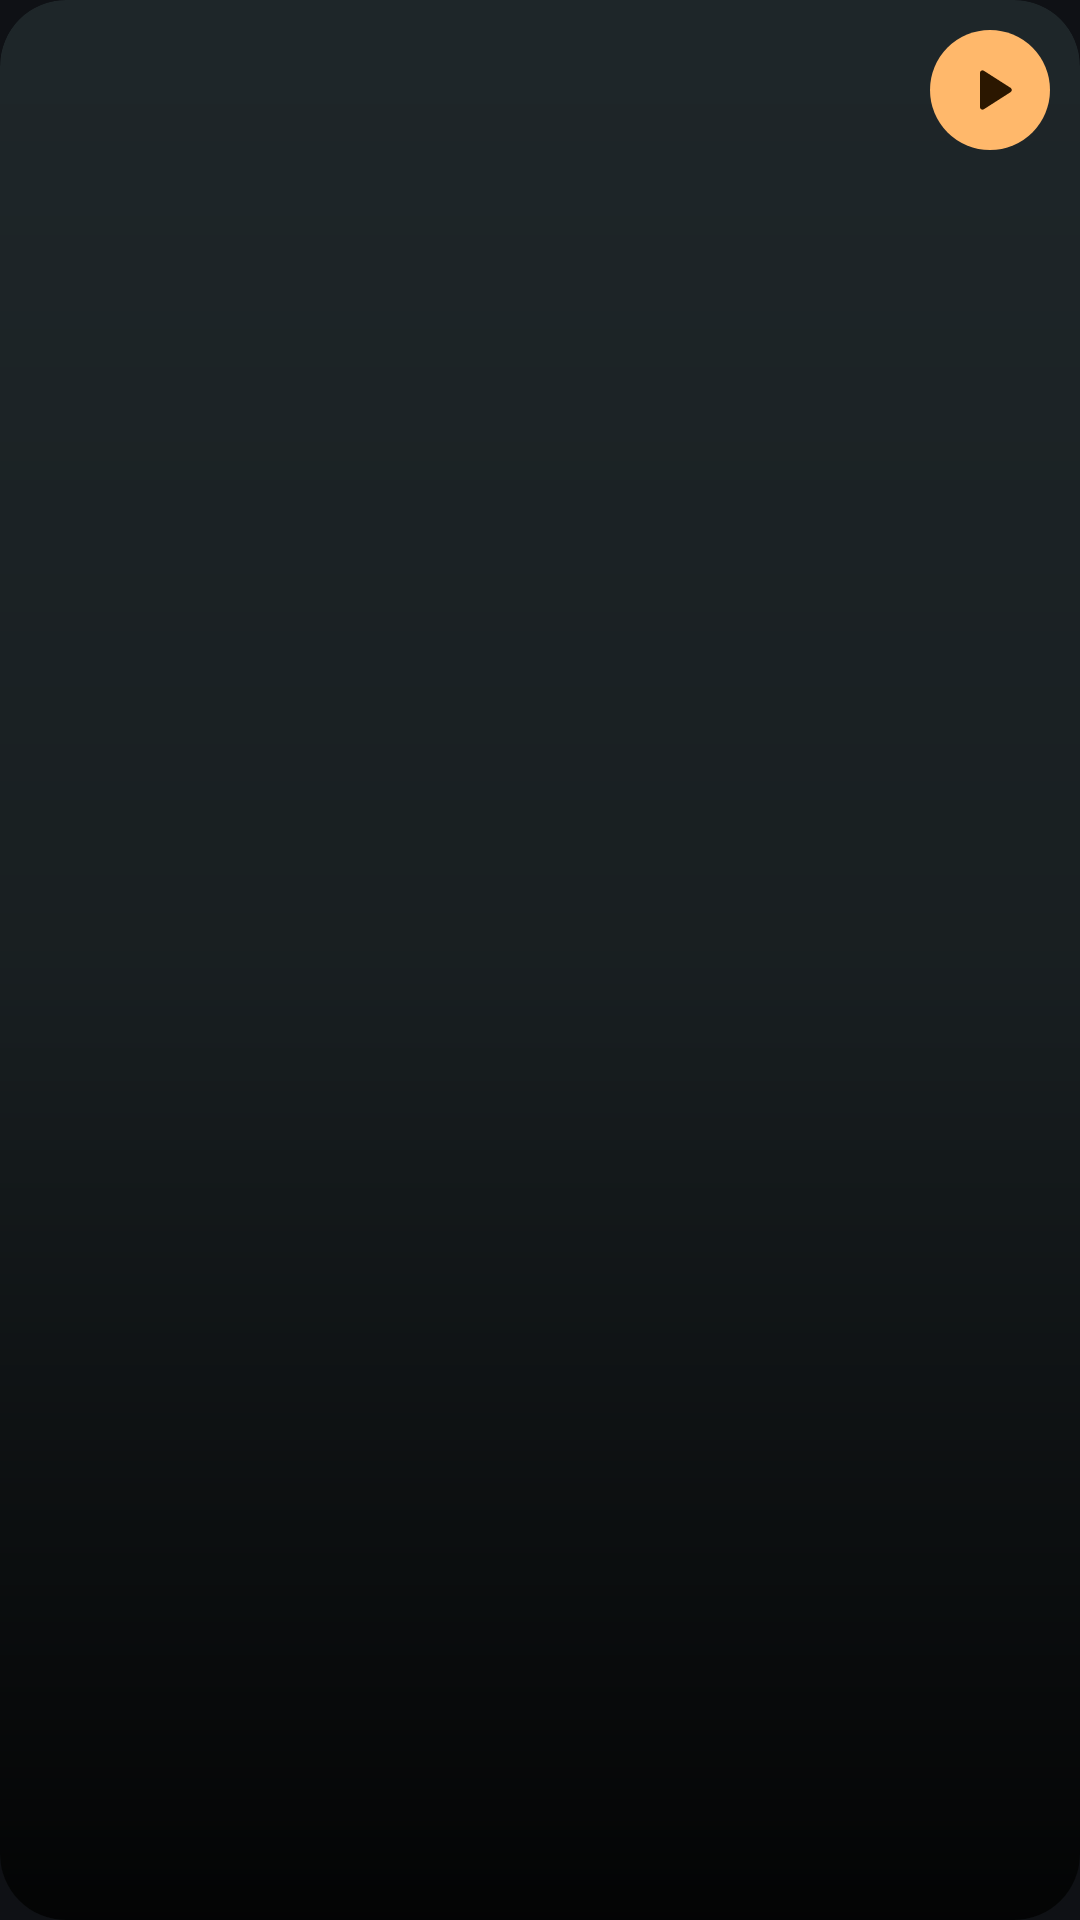

Icon bounding boxes for this 1080 × 1920 phone screenshot, format [x1,y1,x2,y2]:
widget play: [930,30,1050,150]
